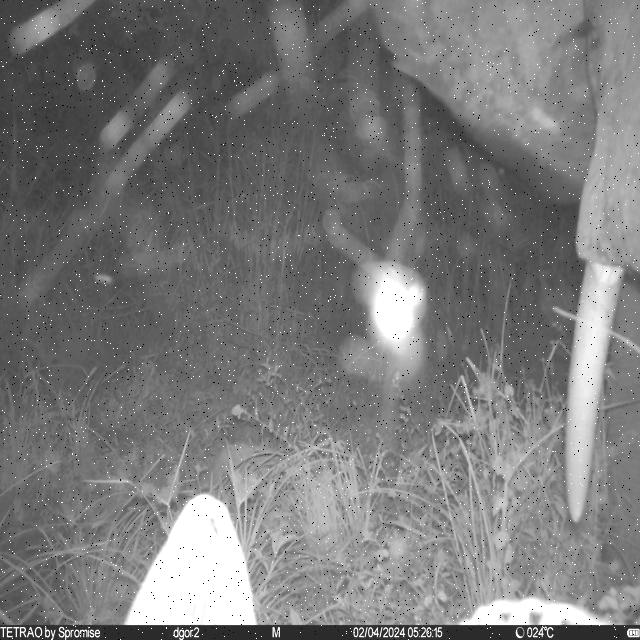ear: (374, 0, 598, 209)
elephant: (373, 0, 639, 527)
tusk: (564, 258, 624, 528)
